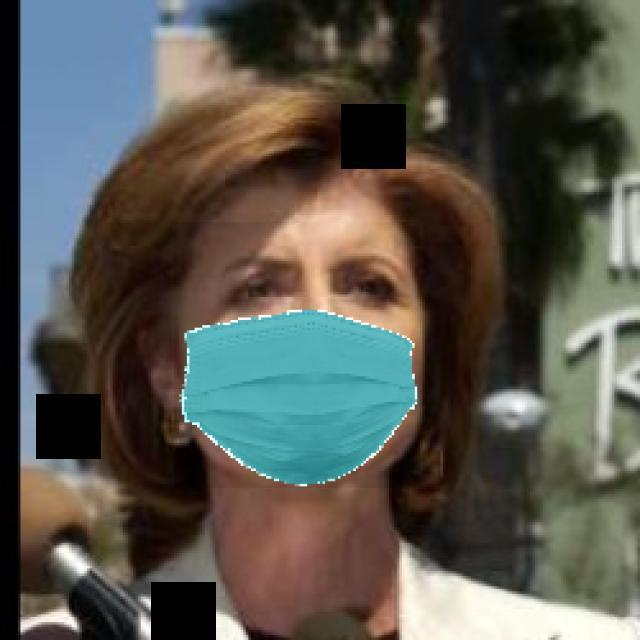surgical: (174, 222, 420, 488)
